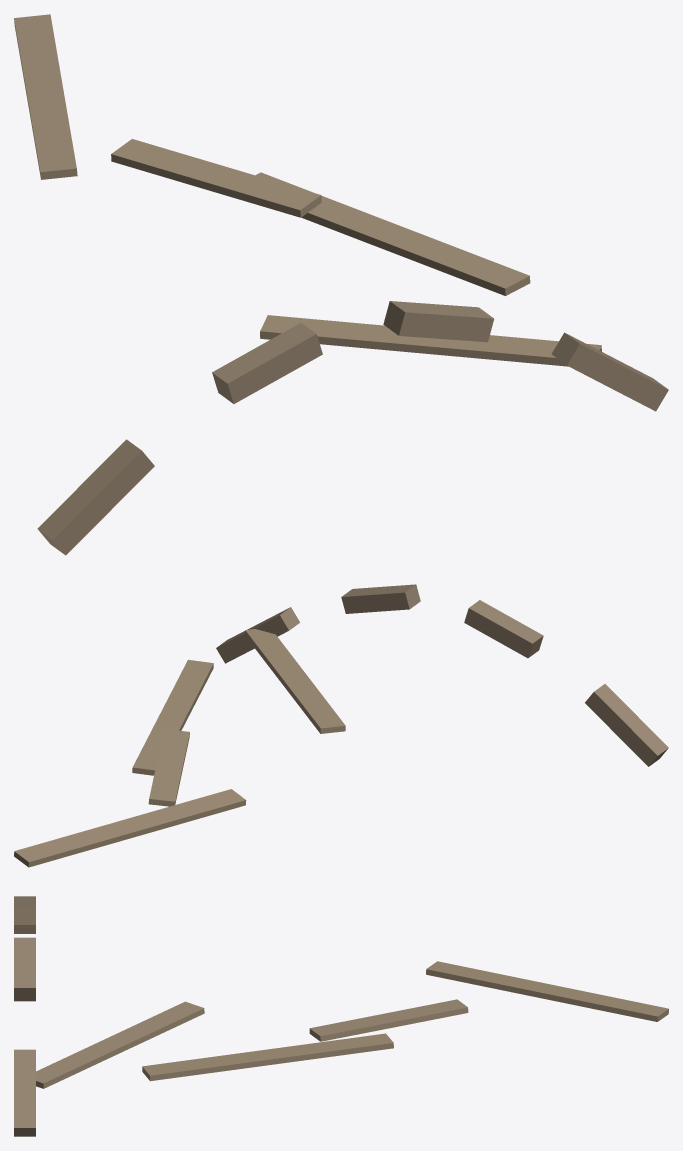
File: PROP_PC_WreckPlanks.fbx
3 renders of one model, top to bottom at view 1: azimuth 30°, elevation 25°; view 2: azimuth 150°, elevation 25°; view 3: azimuth 270°, elevation 25°, orthographic. The views are drawn at different scales.
Visible parts, largest first — view 1: PROP_PC_WreckPlanks; view 2: PROP_PC_WreckPlanks; view 3: PROP_PC_WreckPlanks.
Part boxes in pixels (x1,y1,x2,y2): PROP_PC_WreckPlanks: (14,14,668,555); PROP_PC_WreckPlanks: (14,584,668,867); PROP_PC_WreckPlanks: (14,896,668,1136).
Bounding box in the file's own units: 2.52 × 0.6267 × 3.29.
